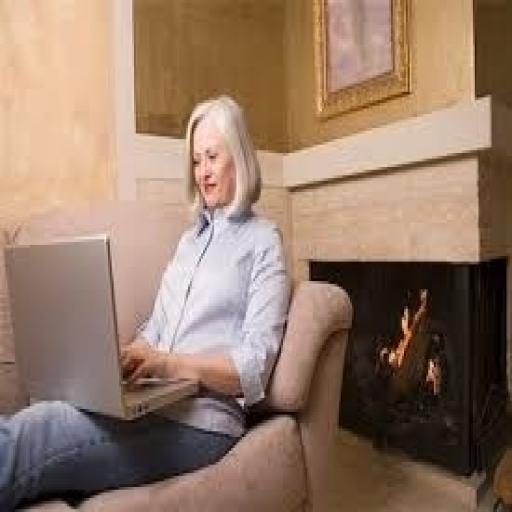using_laptop: (2, 231, 199, 423)
